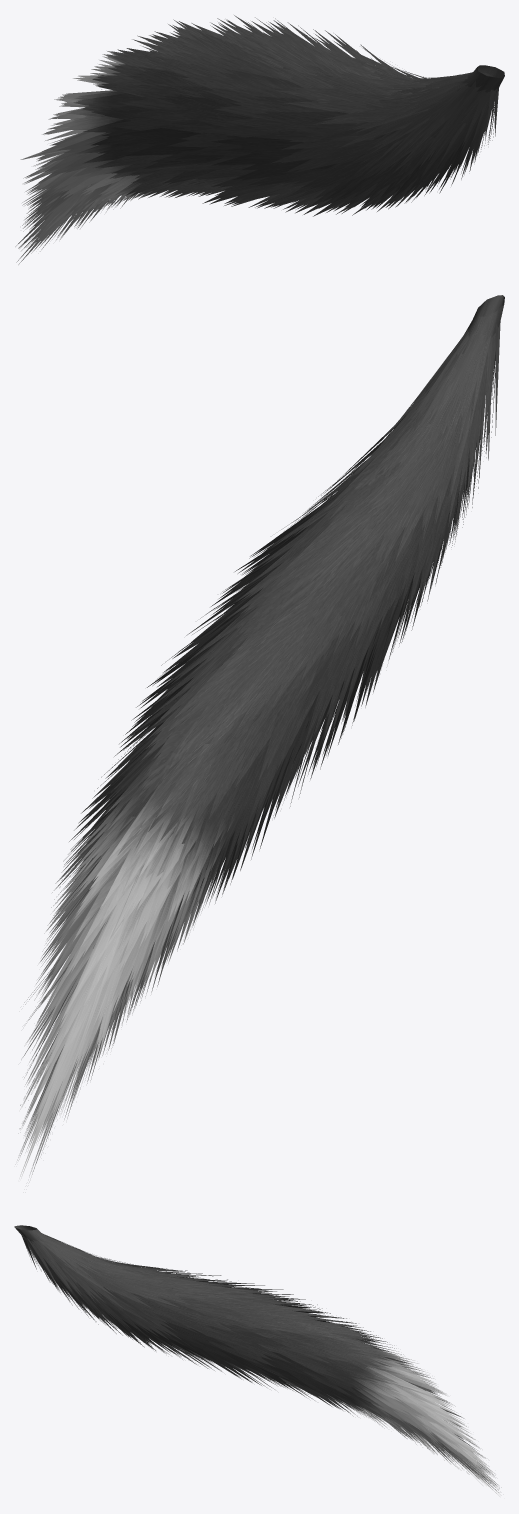
File: VulpineTailSilver.obj
The picture shows the model from 3 angles, top to bottom: view 1: azimuth 30°, elevation 25°; view 2: azimuth 150°, elevation 25°; view 3: azimuth 270°, elevation 25°; orthographic projection. The views are drawn at different scales.
Visible parts, largest first — view 1: Inari_ZA85_fluffy; view 2: Inari_ZA85_fluffy; view 3: Inari_ZA85_fluffy.
Boxes of the visible parts, x1,y1,x2,y2 form: Inari_ZA85_fluffy: [15, 15, 504, 264]; Inari_ZA85_fluffy: [15, 295, 504, 1178]; Inari_ZA85_fluffy: [14, 1225, 501, 1496].
Size of the model in its own units: 13.61 by 43.95 by 71.22.
